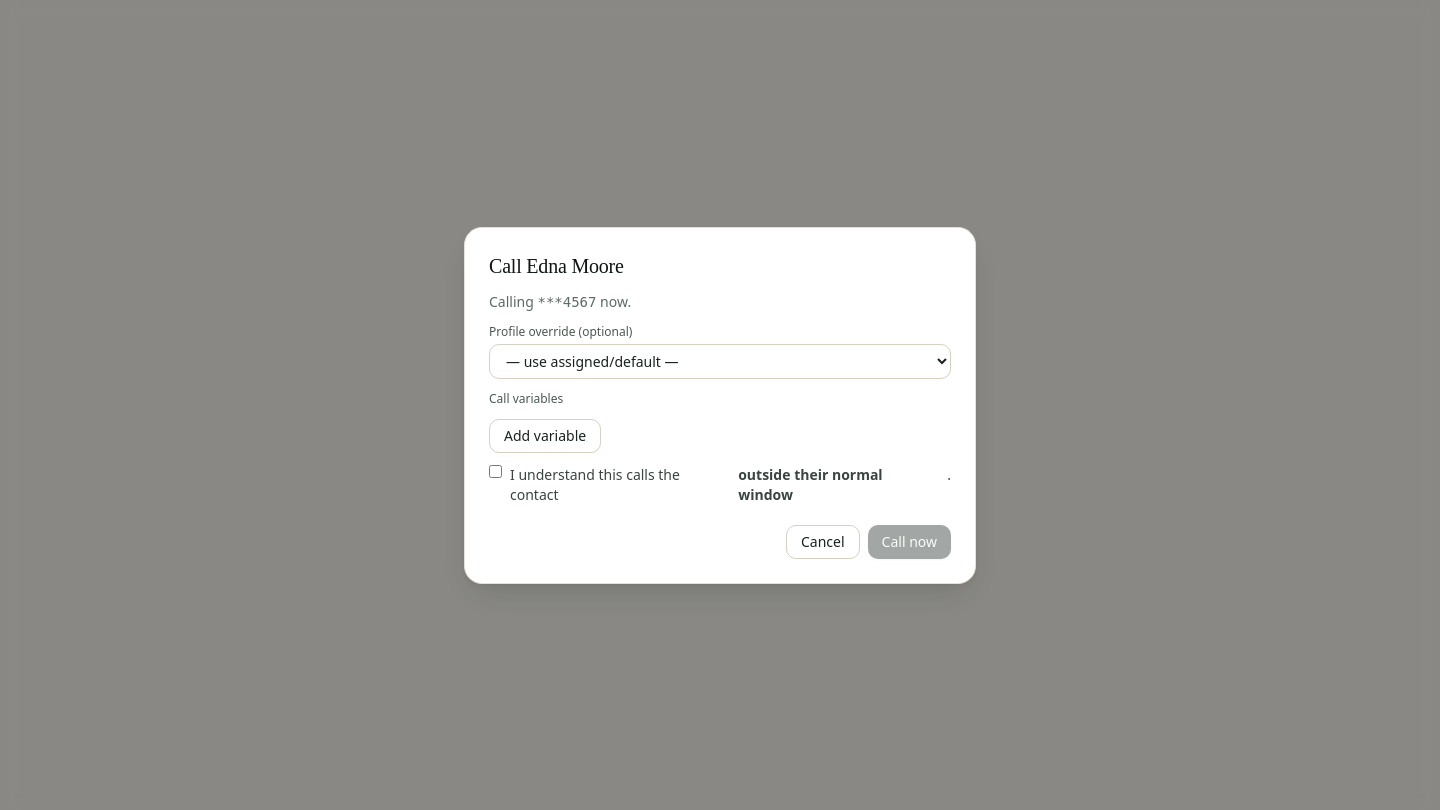
Test: CallNowDialog › surfaces a 503 (telephony unavailable) inline
Click the checkbox labelled "outside their normal window" at (496, 471), box [489,464,502,478]
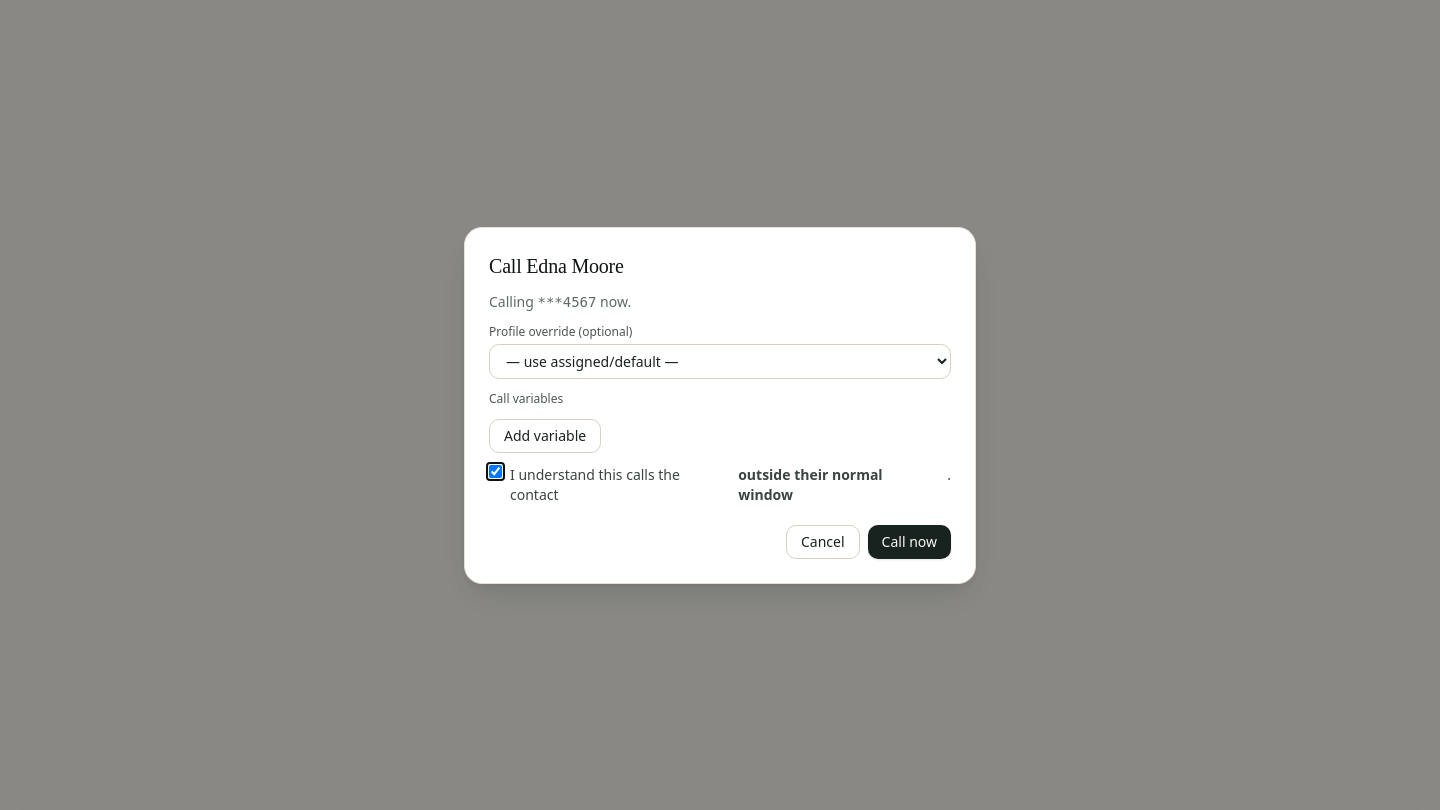
Click the button "Call now" at (909, 542), box [868,524,951,558]
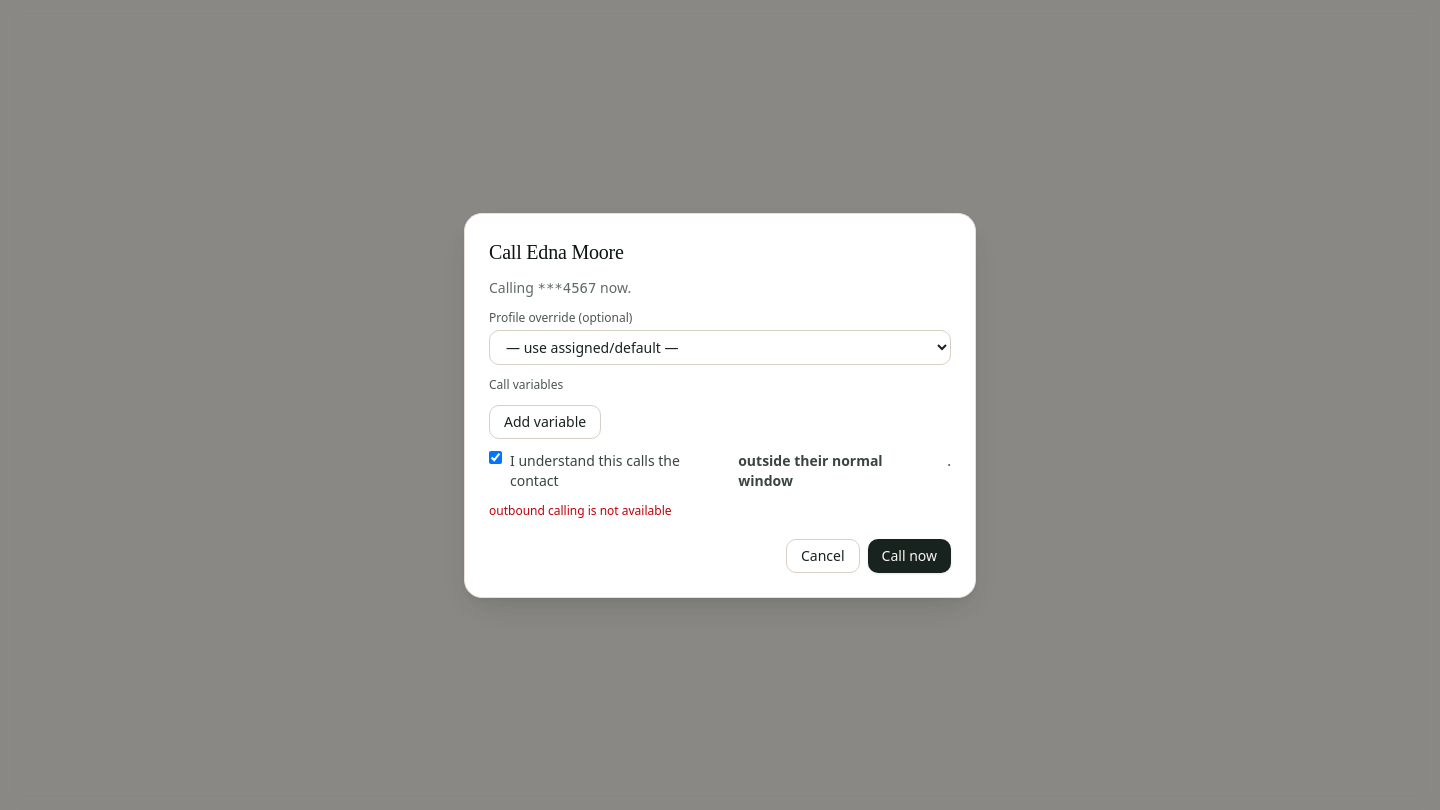
Check: the text "outbound calling is not available" is shown, box [489,502,672,518]
